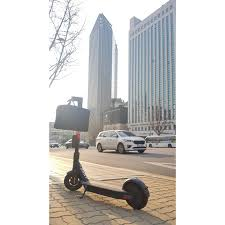kick_board: (65, 96, 149, 208)
kick_body: (87, 181, 121, 194)
kick_handler: (66, 96, 84, 105)
kick_neck: (73, 132, 81, 168)
kick_wheel: (123, 177, 149, 209), (64, 170, 81, 190)
